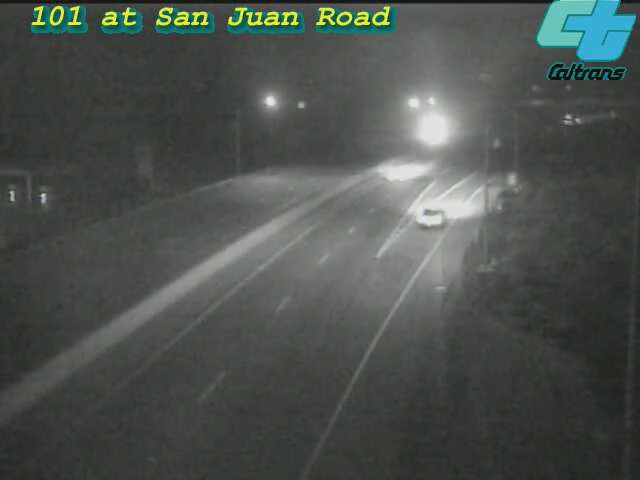vehicle: (364, 128, 444, 208), (384, 183, 464, 263), (409, 104, 459, 154), (546, 94, 596, 144)
